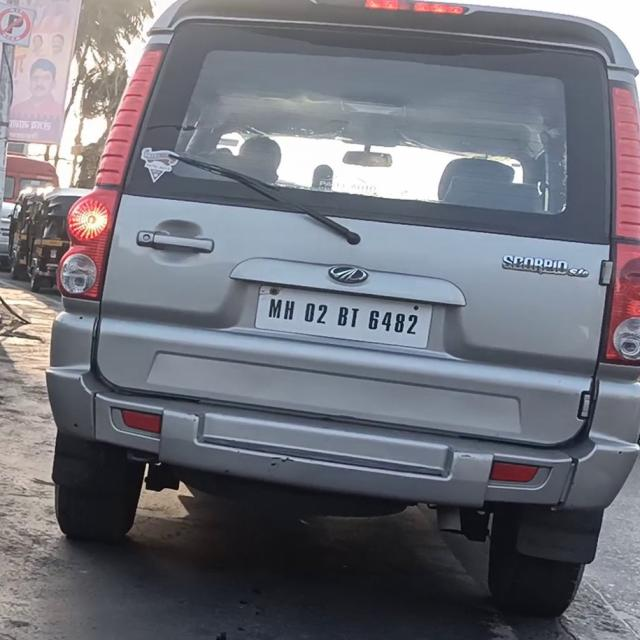license-plate: (255, 279, 432, 348)
